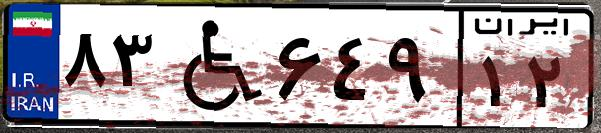1: (475, 38, 525, 113)
2: (525, 38, 570, 115)
3: (110, 28, 158, 98)
4: (330, 28, 385, 110)
6: (270, 28, 330, 110)
8: (57, 26, 110, 100)
9: (385, 28, 445, 110)
ژ (معلولین و جانبازان): (158, 12, 270, 120)
